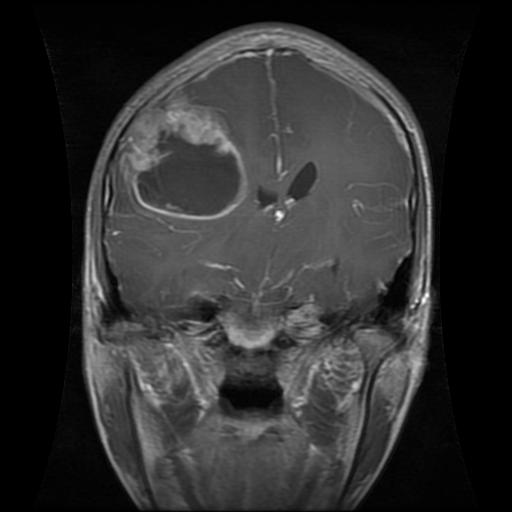Gliomia_tumour: (120, 87, 252, 221)
